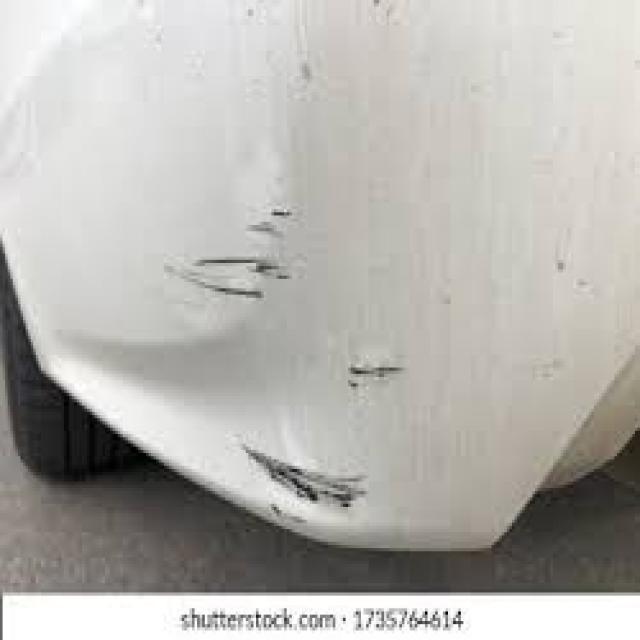dent-or-scratch: (158, 202, 306, 315), (237, 436, 375, 522), (344, 347, 411, 407)
